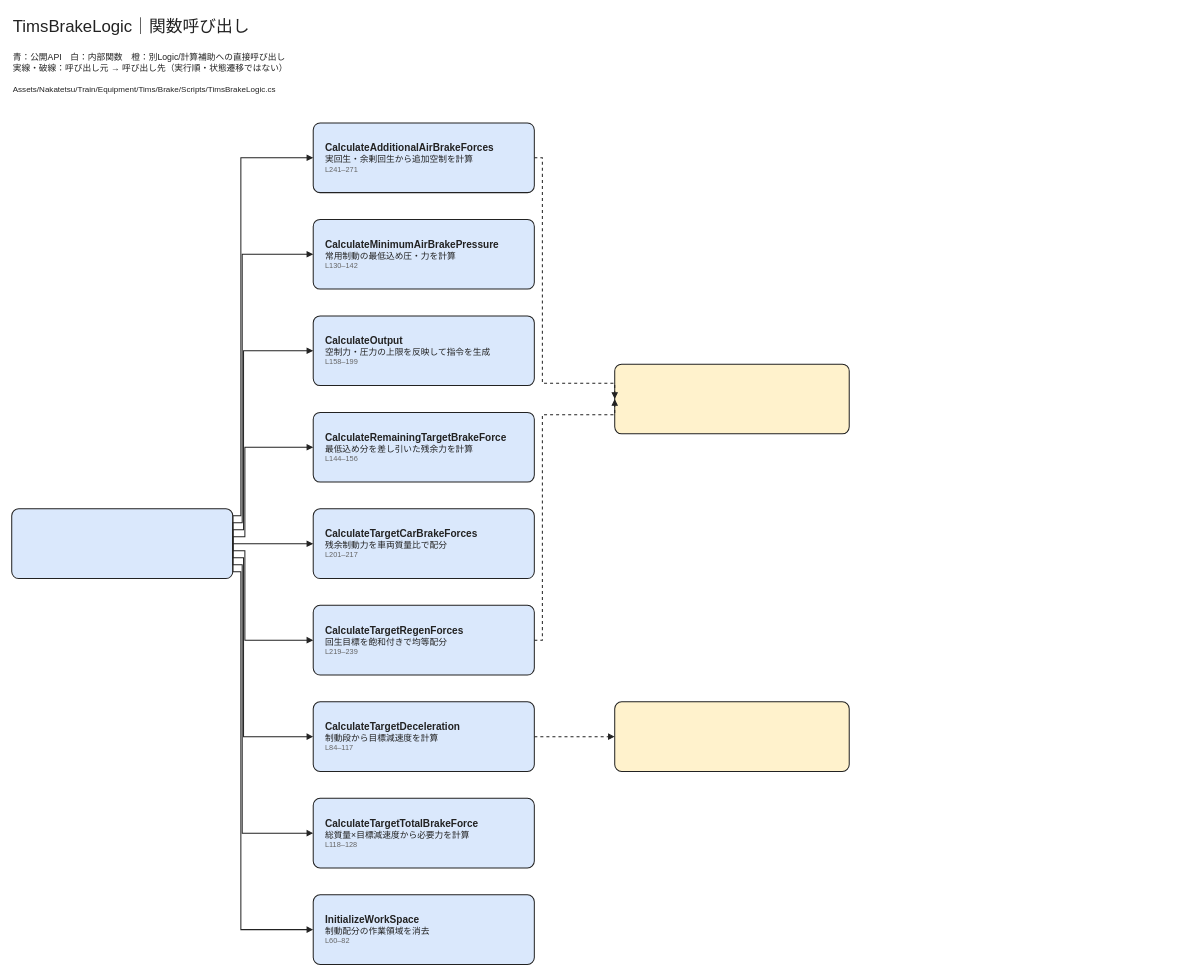
The diagram is 1196 pixels wide and 976 high, and some of its shapes have lost their labels. Each missing label, with the box of its shape:
Calculate TIMSブレーキの更新・計算 L10–58: (11, 508, 233, 579)
Tims Brake Calculator Allocate Evenly With Saturation 別Logic / 計算補助: (614, 363, 849, 434)
Tims Notch Calculator To Brake Notch Step 別Logic / 計算補助: (614, 701, 849, 772)
